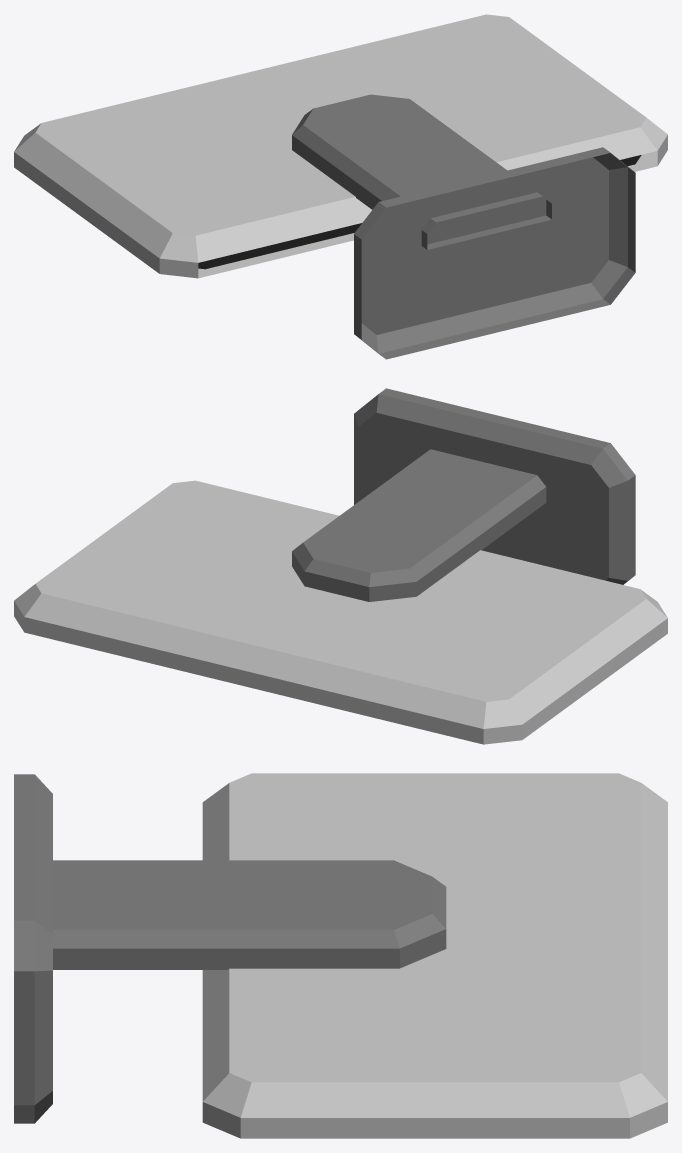
The model's file is Computer 01.FBX.
3 views of the same model, one above another, from view 1: azimuth 30°, elevation 25°; view 2: azimuth 150°, elevation 25°; view 3: azimuth 270°, elevation 25° (orthographic). The views are drawn at different scales.
Parts seen in each view (by area): view 1: Computer 01; view 2: Computer 01; view 3: Computer 01.
Part boxes in pixels (box(x1,y1,x2,y2)): Computer 01: box(14, 14, 667, 359); Computer 01: box(14, 388, 667, 744); Computer 01: box(14, 773, 667, 1138).
Bounding box in the file's own units: 103 × 29.44 × 85.95.
1 material, 1 textured.
